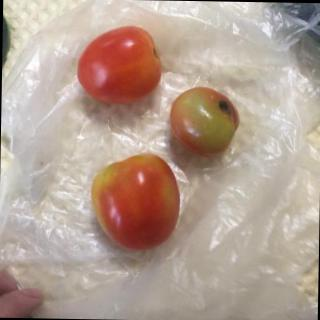Tomat: (79, 152, 194, 255), (68, 20, 172, 109), (165, 79, 252, 158)
